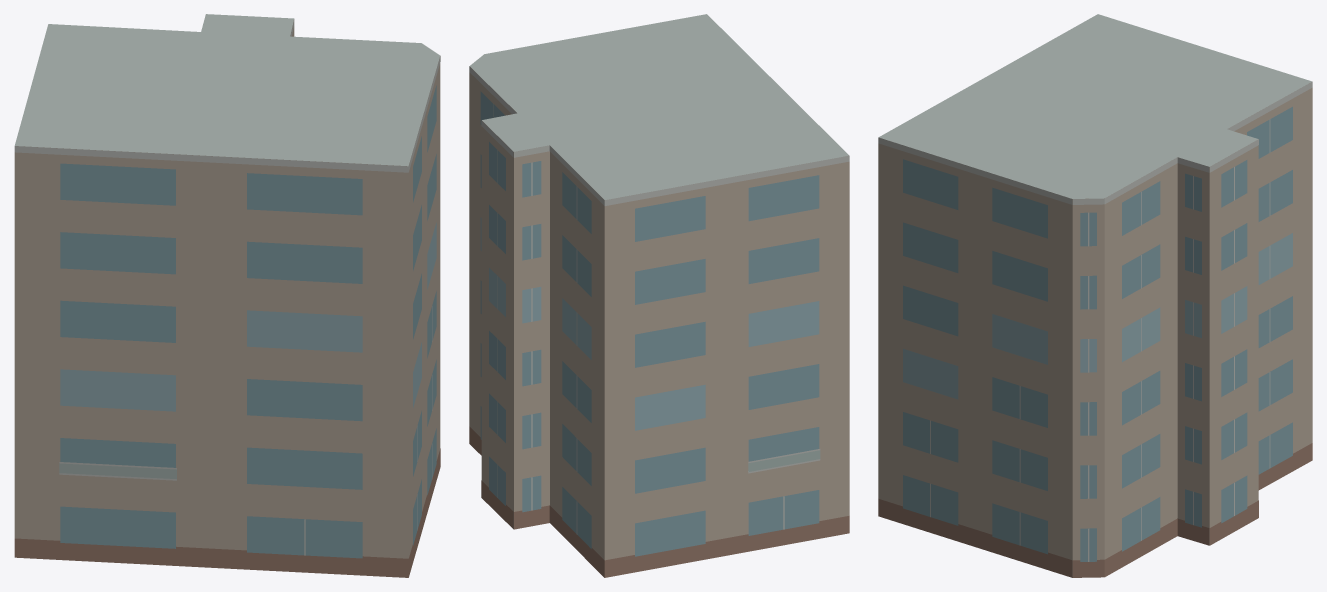
File: survey-upis-32846918.glb
3 views of the same model, side by side, from view 1: azimuth 30°, elevation 25°; view 2: azimuth 150°, elevation 25°; view 3: azimuth 270°, elevation 25° (orthographic). The views are drawn at different scales.
Parts seen in each view (by area): view 1: survey-upis-32846918.tmp; view 2: survey-upis-32846918.tmp; view 3: survey-upis-32846918.tmp.
Boxes of the visible parts, x1,y1,x2,y2 form: survey-upis-32846918.tmp: [14, 14, 440, 577]; survey-upis-32846918.tmp: [469, 14, 849, 577]; survey-upis-32846918.tmp: [878, 14, 1312, 577].
Bounding box in the file's own units: 16.13 × 15.39 × 15.99.
